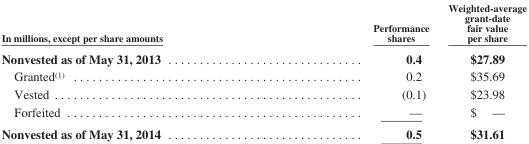table: (0, 1, 526, 141)
table column: (0, 1, 267, 141), (267, 1, 438, 141), (438, 1, 526, 141)
table column header: (0, 1, 526, 47)
table row: (0, 1, 526, 47), (0, 47, 526, 67), (0, 102, 526, 122), (0, 122, 526, 141), (0, 84, 526, 102), (0, 67, 526, 84)
